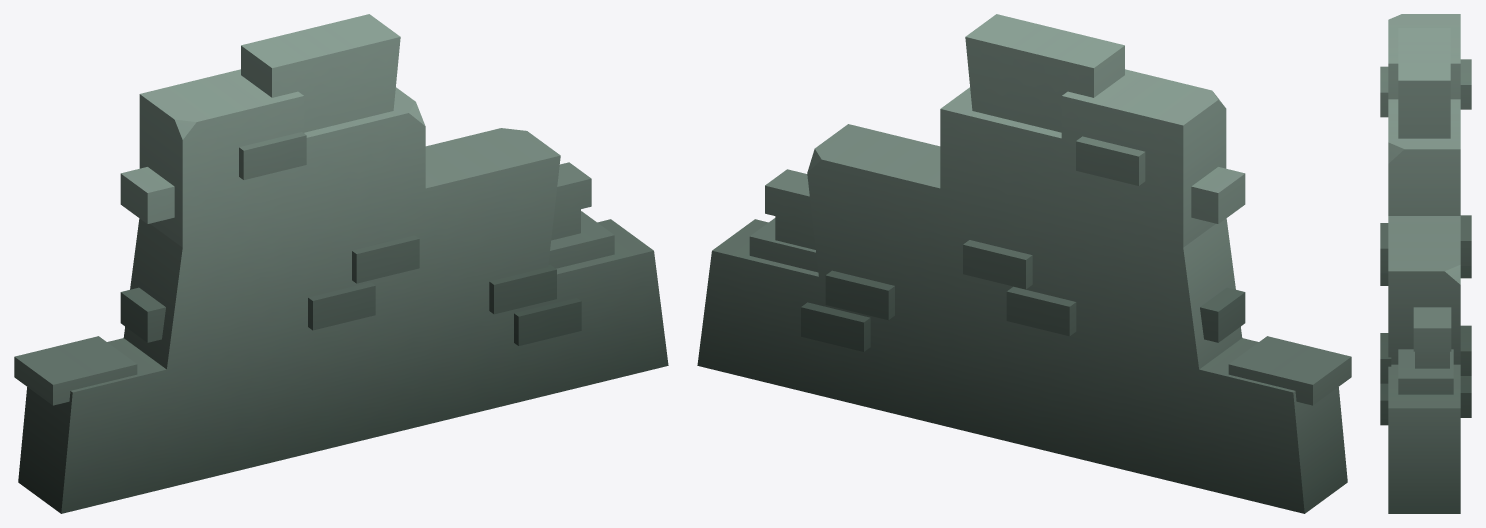
The model's file is wall-1_001.fbx.
3 renders of one model, left to right at view 1: azimuth 30°, elevation 25°; view 2: azimuth 150°, elevation 25°; view 3: azimuth 270°, elevation 25°, orthographic. The views are drawn at different scales.
Visible parts, largest first — view 1: wall-1.001; view 2: wall-1.001; view 3: wall-1.001.
Boxes of the visible parts, <box> form: wall-1.001: <box>14,14,668,513</box>; wall-1.001: <box>697,14,1351,513</box>; wall-1.001: <box>1380,14,1471,513</box>.
Size of the model in its own units: 491 by 297 by 75.56.
